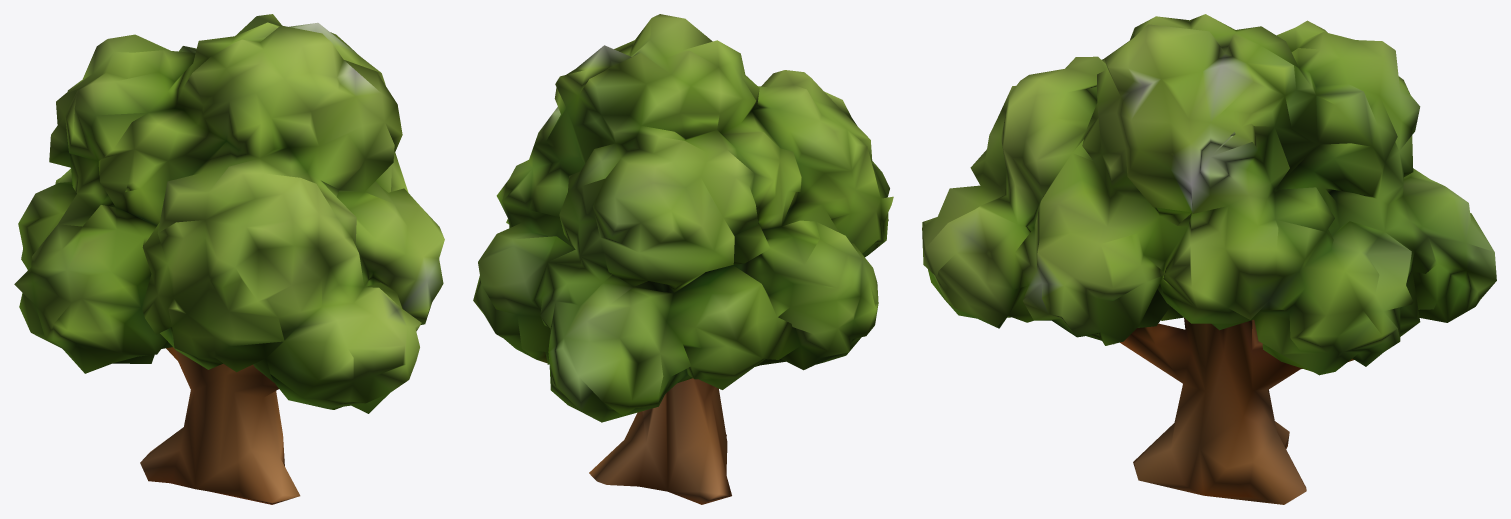
File: tree_l2.glb
The picture shows the model from 3 angles, left to right: view 1: azimuth 30°, elevation 25°; view 2: azimuth 150°, elevation 25°; view 3: azimuth 270°, elevation 25°; orthographic projection. The views are drawn at different scales.
Bounding box in the file's own units: 0.752 × 0.8636 × 0.9629.
